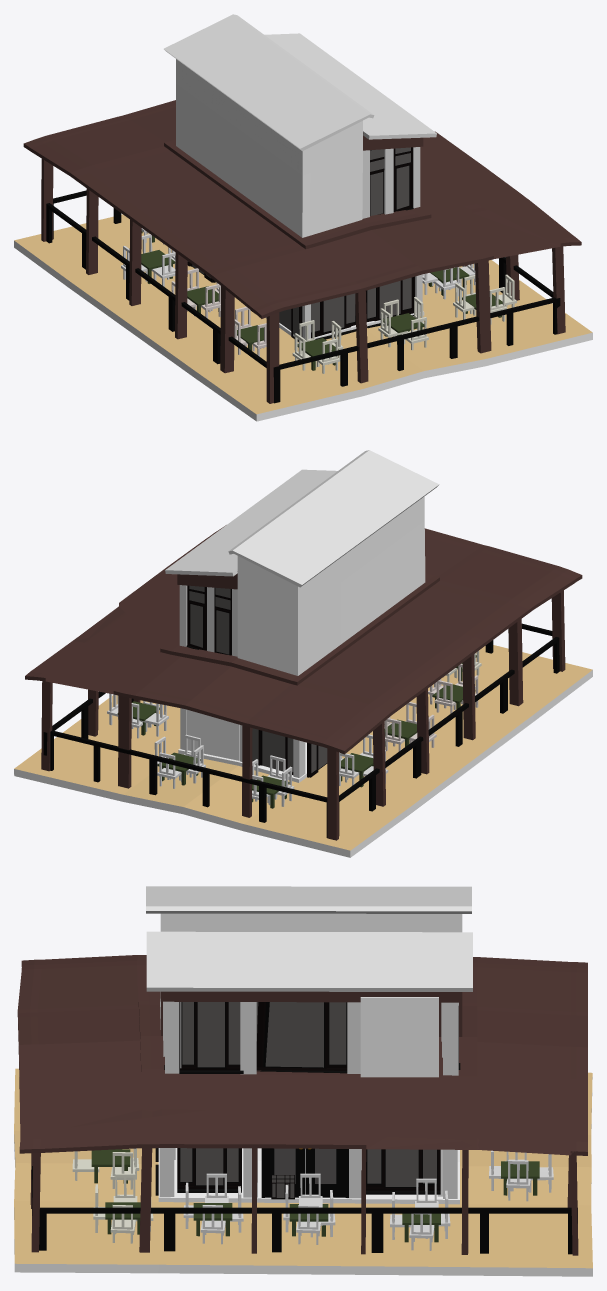
File: CampDavid004.fbx
3 views of the same model, one above another, from view 1: azimuth 30°, elevation 25°; view 2: azimuth 150°, elevation 25°; view 3: azimuth 270°, elevation 25° (orthographic). The views are drawn at different scales.
Visible parts, largest first — view 1: Cube, Techo.001, Cube.076, Techo, Cube.067, Window.002, Window.007, Window.006, Cube.040, Cube.070, Cube.066, Cube.002 (+1 smaller); view 2: Cube, Techo.001, Cube.076, Techo, Window.002, Cube.049, CTRL_Hole.002, Cube.040, Cube.070, Window.005, Window.008, Cube.006; view 3: Cube, Techo, Window.003, Techo.001, CTRL_Hole, Cube.076, Cube.049, Cube.067, Door.001, Cube.060, Cube.066, Door (+12 smaller).
Part boxes in pixels (box(x1,y1,x2,y2)): Cube: box(14, 59, 592, 421); Techo.001: box(164, 14, 374, 150); Cube.076: box(46, 190, 560, 403); Techo: box(264, 33, 436, 139); Cube.067: box(292, 274, 516, 373); Window.002: box(370, 147, 413, 215); Window.007: box(366, 276, 414, 328); Window.006: box(311, 293, 356, 339); Cube.040: box(171, 268, 266, 356); Cube.070: box(121, 228, 175, 286); Cube.066: box(422, 263, 475, 299); Cube.002: box(384, 148, 393, 214); Cube: box(14, 496, 592, 857); Techo.001: box(228, 450, 439, 587); Cube.076: box(43, 623, 559, 837); Techo: box(165, 469, 337, 576); Window.002: box(186, 585, 231, 655); Cube.049: box(107, 693, 205, 788); CTRL_Hole.002: box(187, 709, 239, 760); Cube.040: box(384, 663, 478, 751); Cube.070: box(252, 734, 388, 806); Window.005: box(252, 728, 293, 774); Window.008: box(307, 742, 327, 777); Cube.006: box(179, 585, 187, 646); Cube: box(14, 913, 592, 1276); Techo: box(146, 931, 472, 991); Window.003: box(177, 1002, 440, 1194); Techo.001: box(146, 886, 471, 913); CTRL_Hole: box(360, 997, 438, 1077); Cube.076: box(32, 1166, 577, 1254); Cube.049: box(390, 1150, 553, 1250); Cube.067: box(72, 1148, 153, 1243); Door.001: box(305, 1148, 345, 1197); Cube.060: box(283, 1173, 335, 1244); Cube.066: box(183, 1173, 243, 1244); Door: box(265, 1148, 304, 1197).
Bounding box in the file's own units: 6844 × 5410 × 8549.
